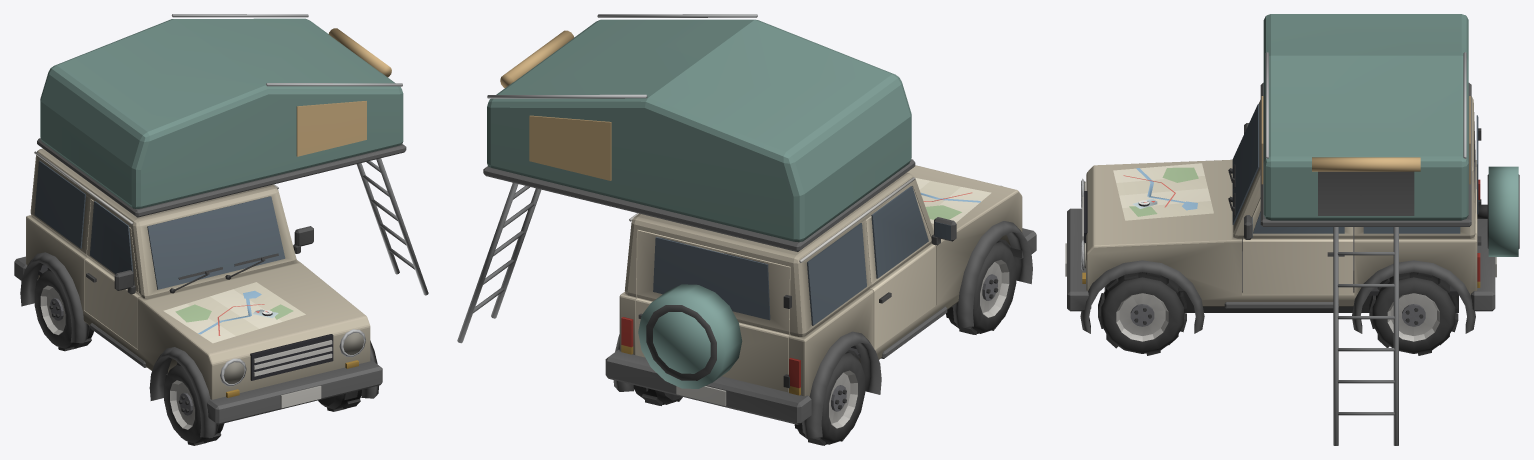
The model's file is jeep_camper.glb.
3 renders of one model, left to right at view 1: azimuth 30°, elevation 25°; view 2: azimuth 150°, elevation 25°; view 3: azimuth 270°, elevation 25°, orthographic. The views are drawn at different scales.
Visible parts, largest first — view 1: Jeep, Glass, Map, DoorD, GlassD, DoorP; view 2: Jeep, BackDoor, GlassB, DoorD, Glass, GlassD, Map; view 3: Jeep, DoorP, Map, BackDoor, Glass, GlassP.
Part boxes in pixels (x1,y1,x2,y2): Jeep: [14, 14, 428, 445]; Glass: [34, 160, 285, 289]; Map: [163, 282, 305, 343]; DoorD: [84, 199, 140, 348]; GlassD: [90, 201, 134, 284]; DoorP: [293, 226, 313, 253]; Jeep: [457, 14, 1036, 445]; BackDoor: [635, 230, 790, 392]; GlassB: [653, 237, 770, 320]; DoorD: [866, 187, 956, 349]; Glass: [662, 223, 866, 325]; GlassD: [871, 186, 928, 278]; Map: [915, 178, 991, 223]; Jeep: [1065, 14, 1496, 445]; DoorP: [1242, 197, 1353, 294]; Map: [1113, 163, 1213, 220]; BackDoor: [1474, 115, 1519, 256]; Glass: [1232, 104, 1460, 233]; GlassP: [1253, 211, 1344, 233].
Size of the model in its own units: 3.56 by 2.71 by 3.77.
